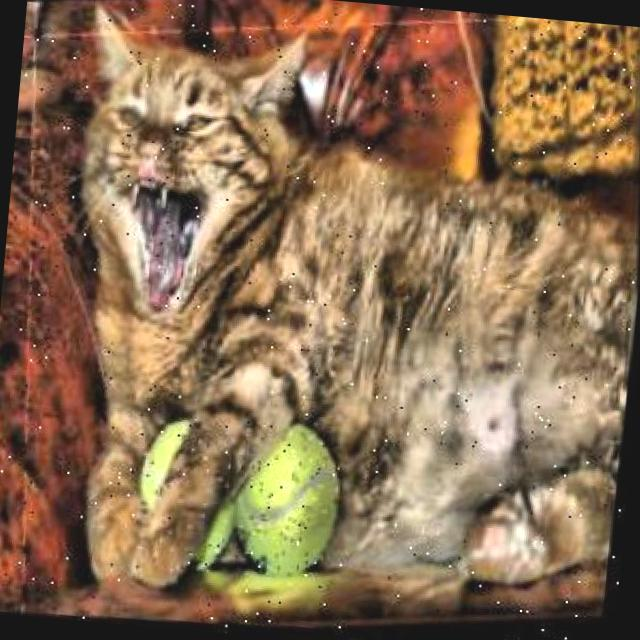tennis-ball: (223, 413, 357, 589), (125, 410, 248, 586)
